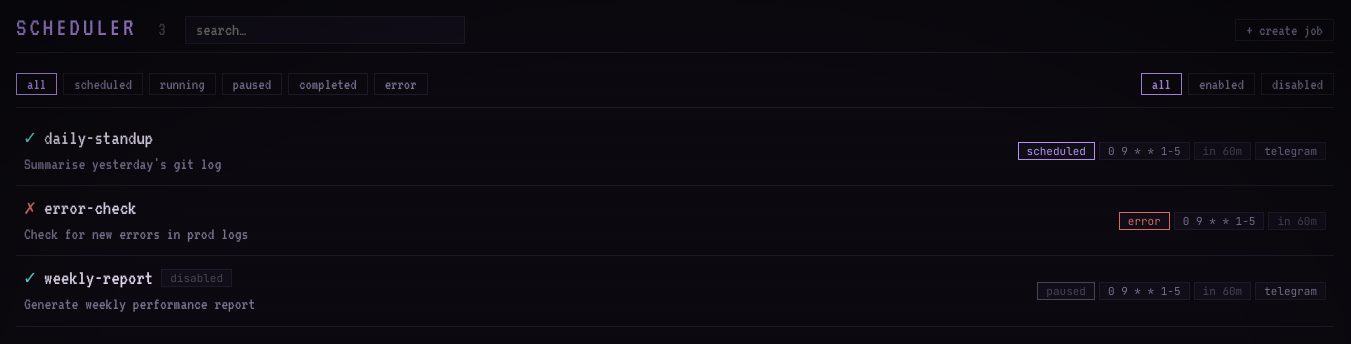
Test: SchedulerView › state filter tabs › clicking paused filter shows only paused jobs
Click the button "paused": {"x": 252, "y": 84} [222, 73, 282, 95]
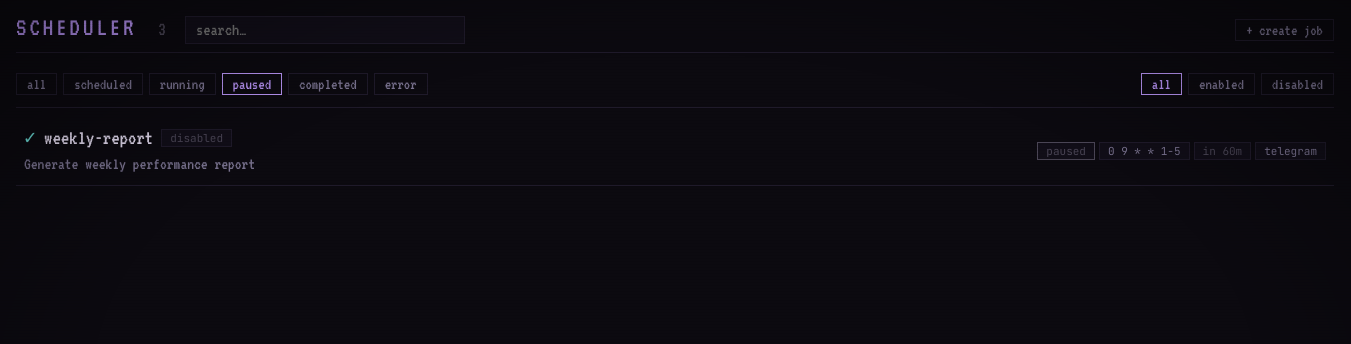
Check: the text "weekly-report" is shown, box [44, 127, 153, 148]
Check: the number of elements with class "dv-row-title" is 1, box [24, 127, 232, 148]
